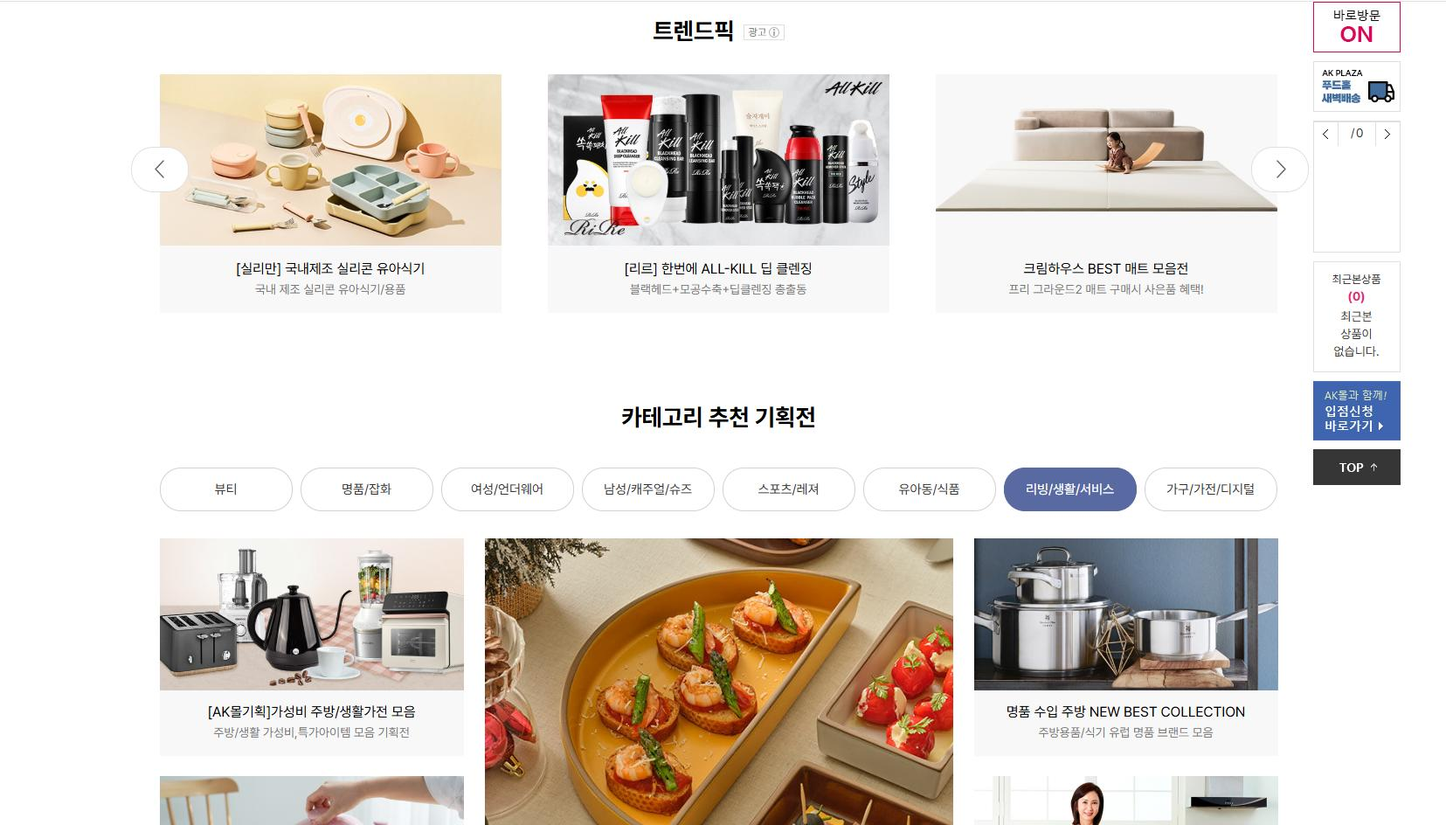button: (1146, 464, 1281, 515), (863, 465, 996, 512), (1004, 468, 1138, 514), (162, 467, 294, 513), (583, 468, 714, 513), (443, 468, 574, 512), (723, 467, 854, 510), (301, 469, 432, 512), (1250, 146, 1311, 194), (131, 148, 188, 192)
popup: (1314, 0, 1402, 487)
